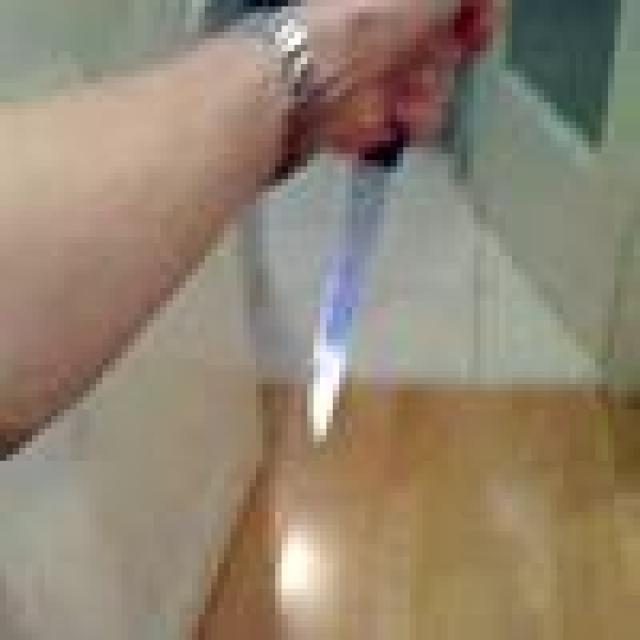faca: (269, 6, 480, 468)
